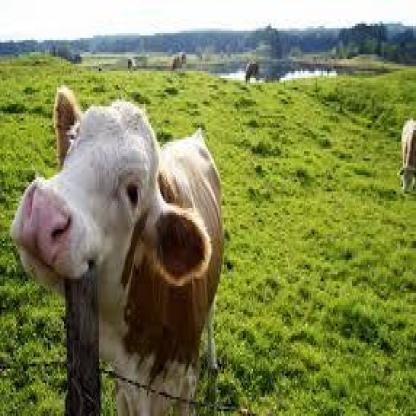cow: (8, 82, 222, 416), (398, 115, 416, 196), (244, 62, 261, 88), (170, 52, 188, 73)
